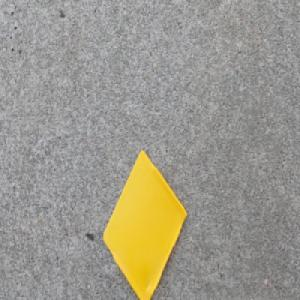PlasticPart: (101, 148, 187, 300)
